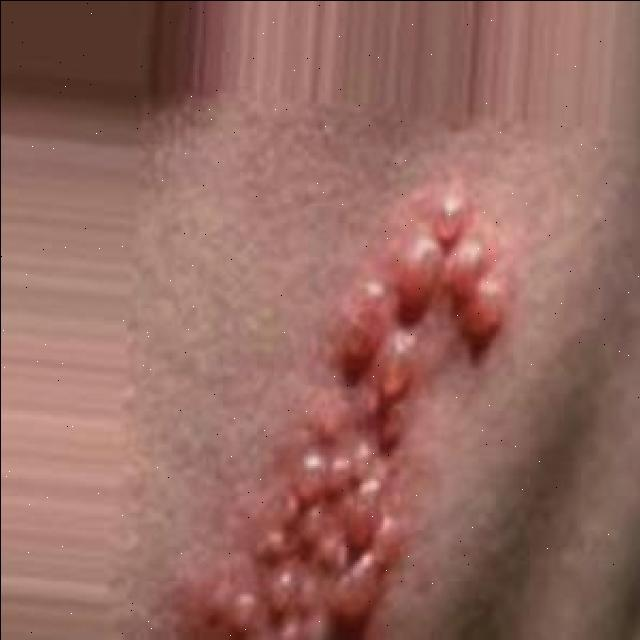Shingles: (202, 189, 499, 639)
